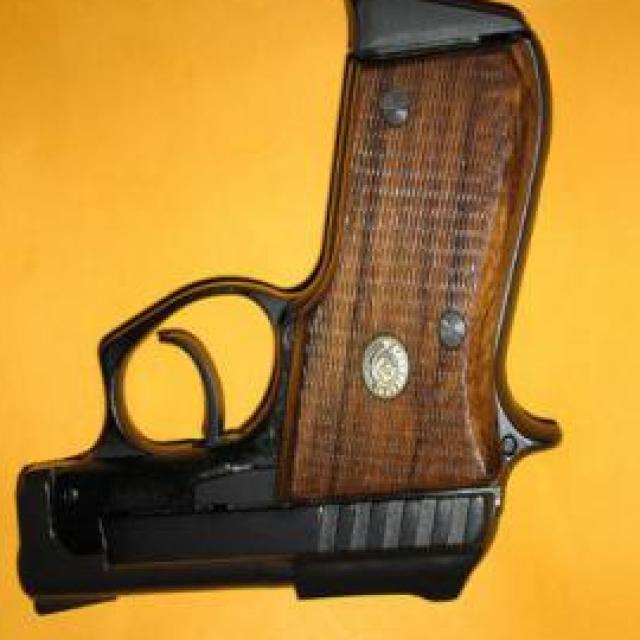pistol: (16, 0, 569, 619)
